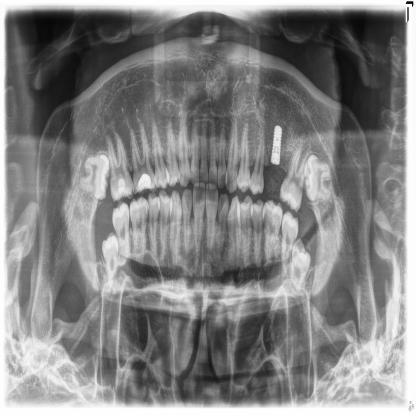ITI: (266, 107, 289, 176)
